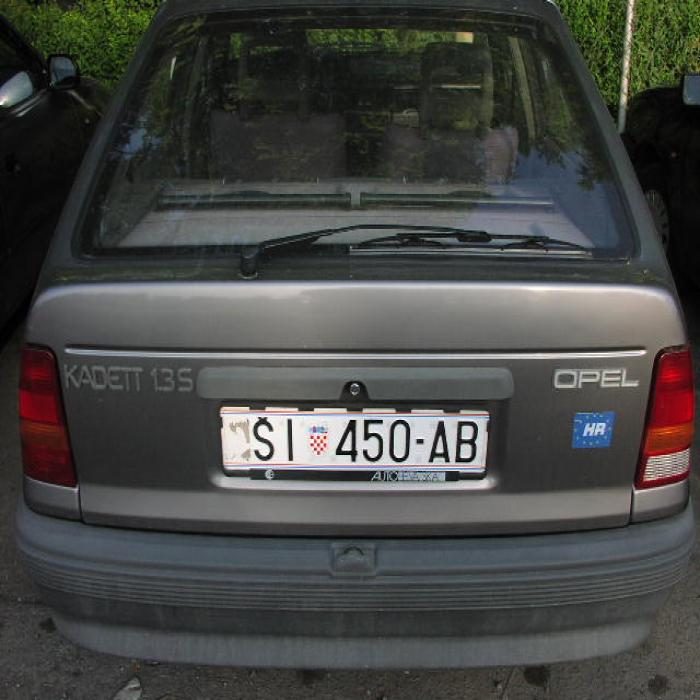number_plate: (220, 407, 483, 468)
